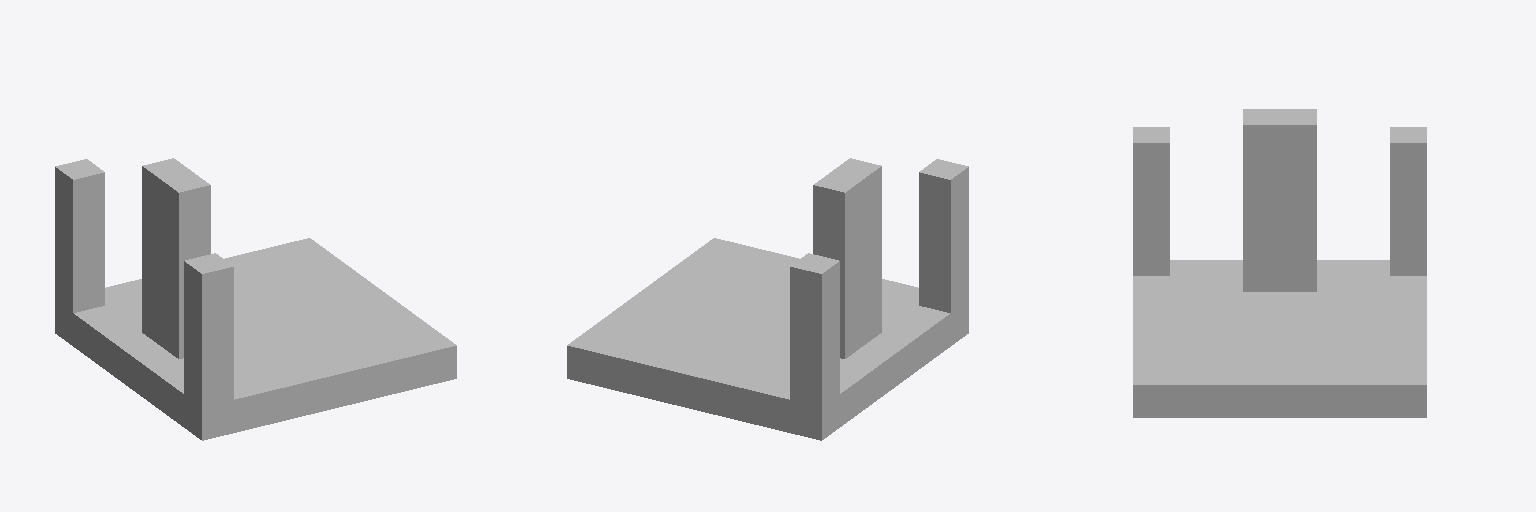
Rendered from ramp.obj.
3 renders of one model, left to right at view 1: azimuth 30°, elevation 25°; view 2: azimuth 150°, elevation 25°; view 3: azimuth 270°, elevation 25°, orthographic.
Visible parts, largest first — view 1: object 1; view 2: object 1; view 3: object 1.
Boxes of the visible parts, x1=… form: object 1: x1=55, y1=158, x2=456, y2=440; object 1: x1=567, y1=158, x2=968, y2=440; object 1: x1=1133, y1=109, x2=1426, y2=417.
Size of the model in its own units: 0.8 by 0.6 by 0.8.